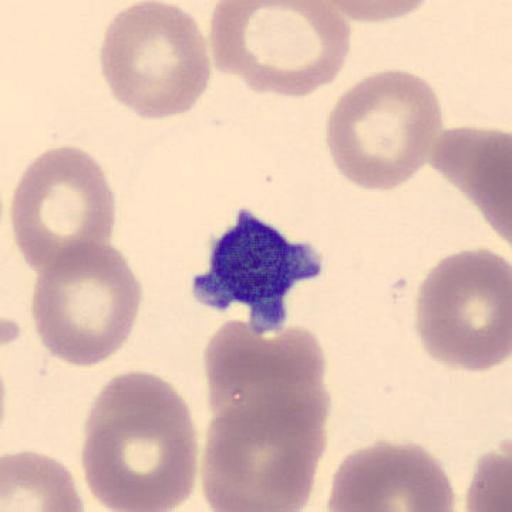Platelet: (192, 207, 326, 337)
RBC: (80, 369, 198, 512), (202, 319, 331, 444), (29, 237, 143, 370), (324, 67, 444, 193), (10, 145, 118, 277), (210, 1, 352, 99), (97, 0, 211, 121), (200, 402, 318, 512), (413, 247, 511, 372), (326, 438, 456, 511), (442, 124, 512, 247), (1, 448, 85, 512), (326, 443, 402, 512), (471, 125, 512, 247), (463, 444, 511, 512), (320, 0, 434, 23)
